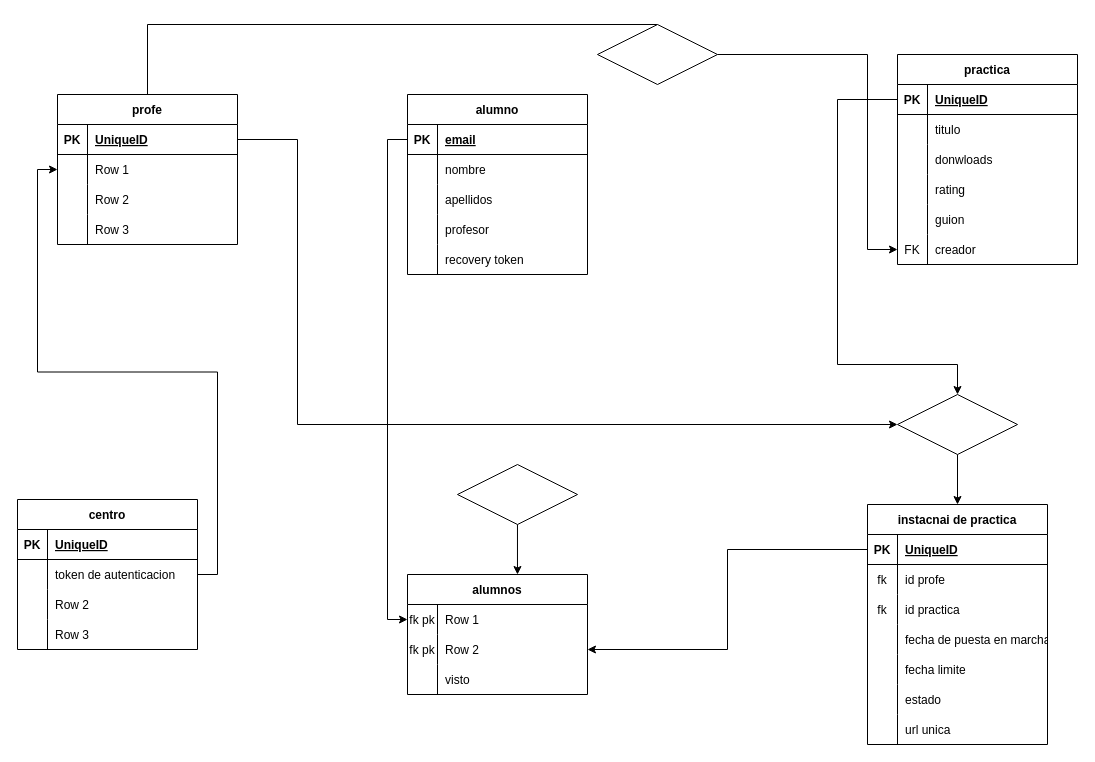
The diagram is 1095 pixels wide and 762 high, and some of its shapes have lost their labels. The centre of each missing label's shape, as x and y in pixels:
crea 1,m: point 657,54
instancia m,n: point 957,424
Relationship: point 517,494
